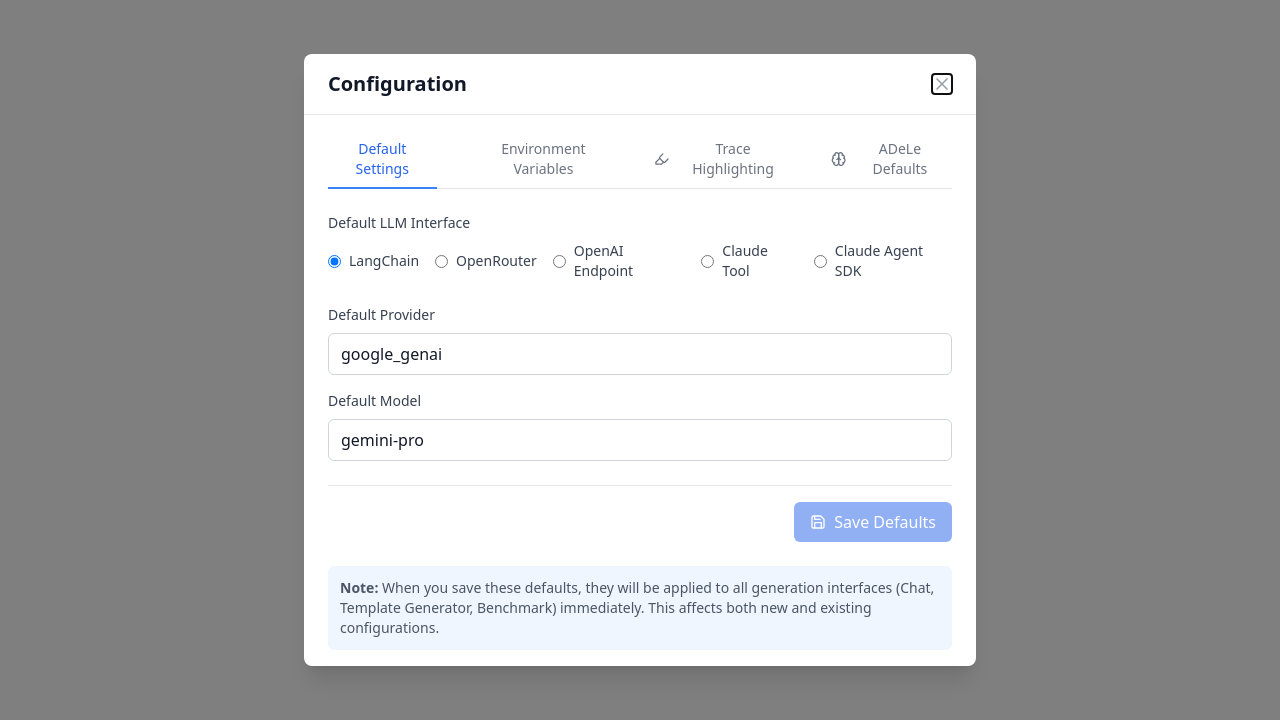
Test: Ground Truth Exposure Toggle › shows toggle as checked when environment variable is true
// Click on the Environment Variables tab
Click the button "Environment Variables": (543, 160) x1=468 y1=131 x2=618 y2=189
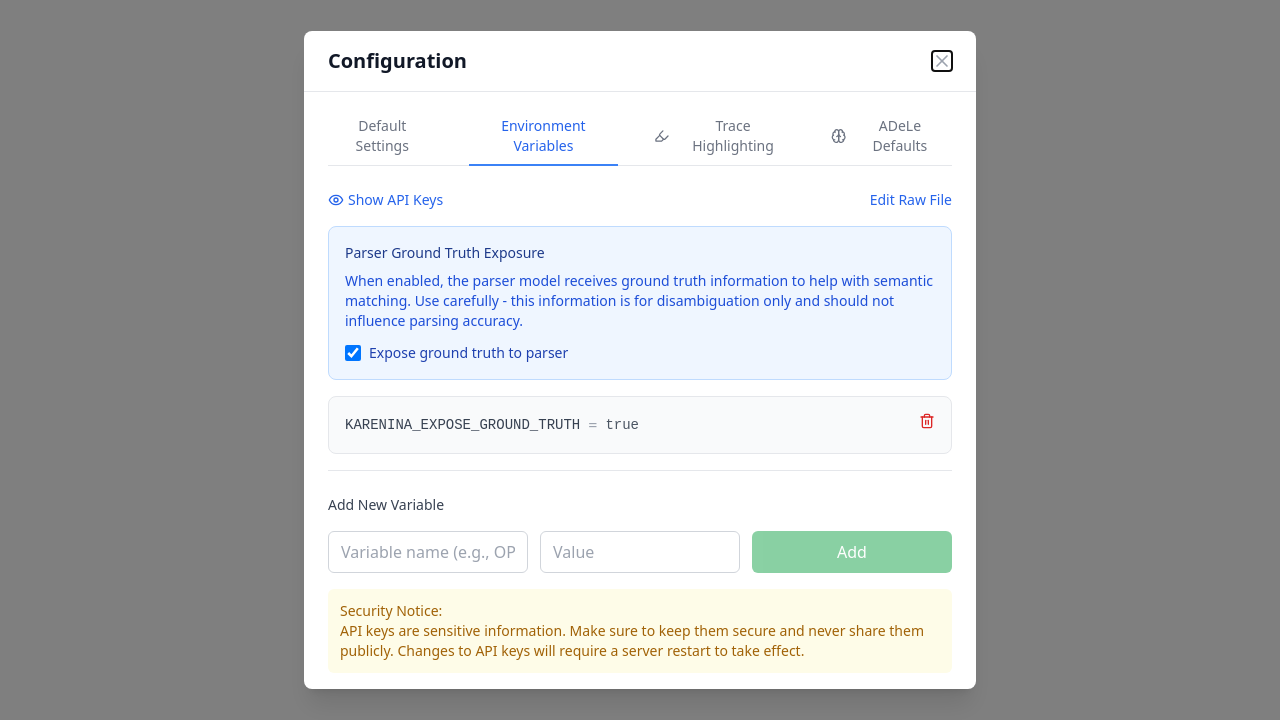
Result: the checkbox labelled "Expose ground truth to parser" is checked at x1=345 y1=345 x2=361 y2=361
